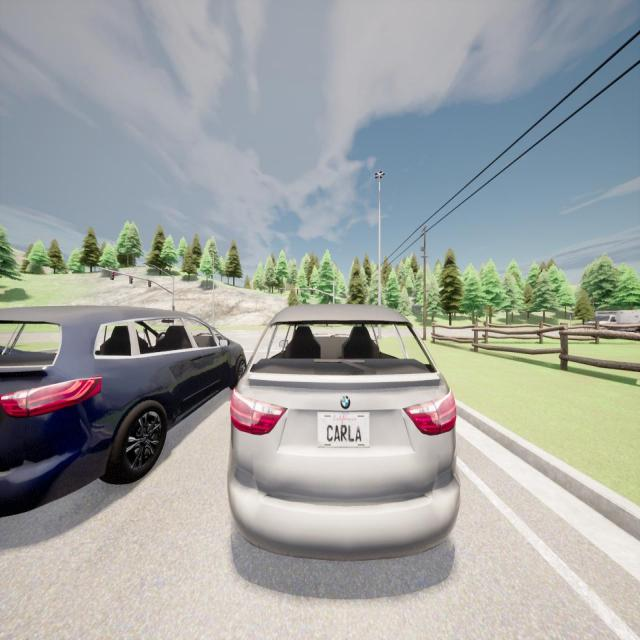Vehicle: (227, 306, 460, 550), (0, 307, 246, 519)
traffic_light: (111, 271, 115, 280), (148, 280, 152, 287), (130, 276, 132, 284), (310, 290, 313, 295), (280, 290, 282, 294), (297, 290, 298, 294)
